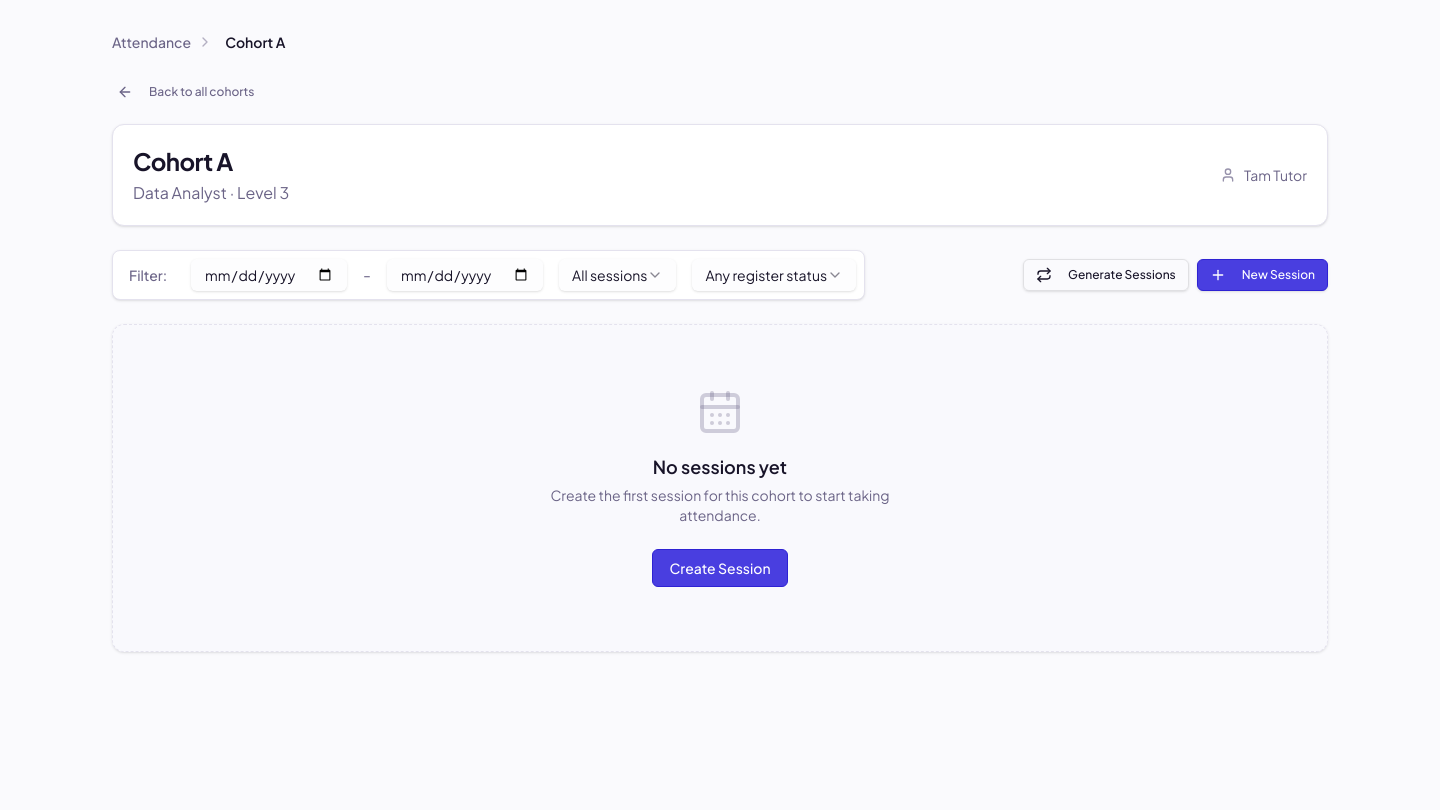
Test: CohortSessionsPage › warns when the chosen date falls outside the cohort's start/end dates
Click the button "New Session" at (1262, 275), box left=1197, top=259, right=1328, bottom=291
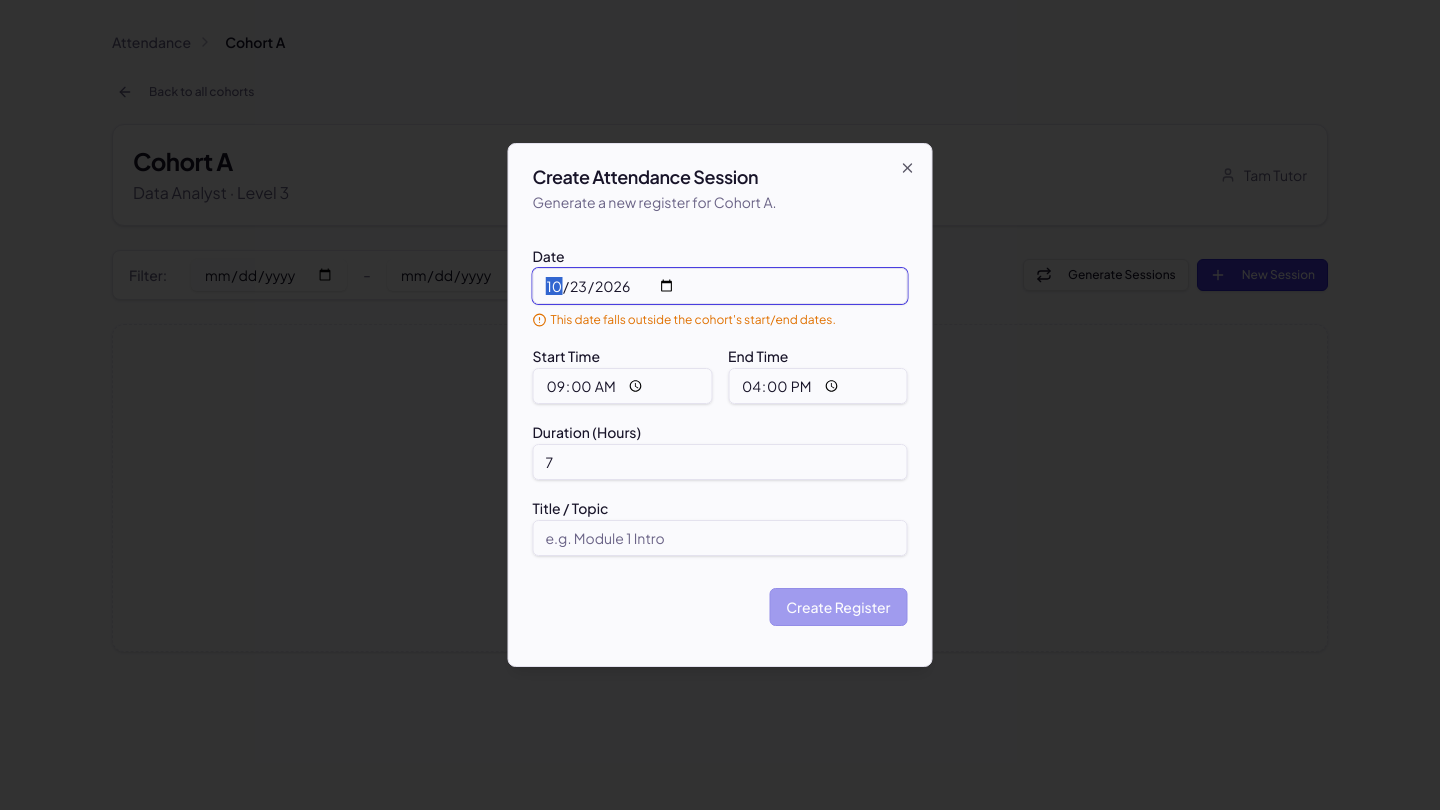
Clear the date field labelled "Date" at (720, 286), box left=532, top=268, right=908, bottom=304
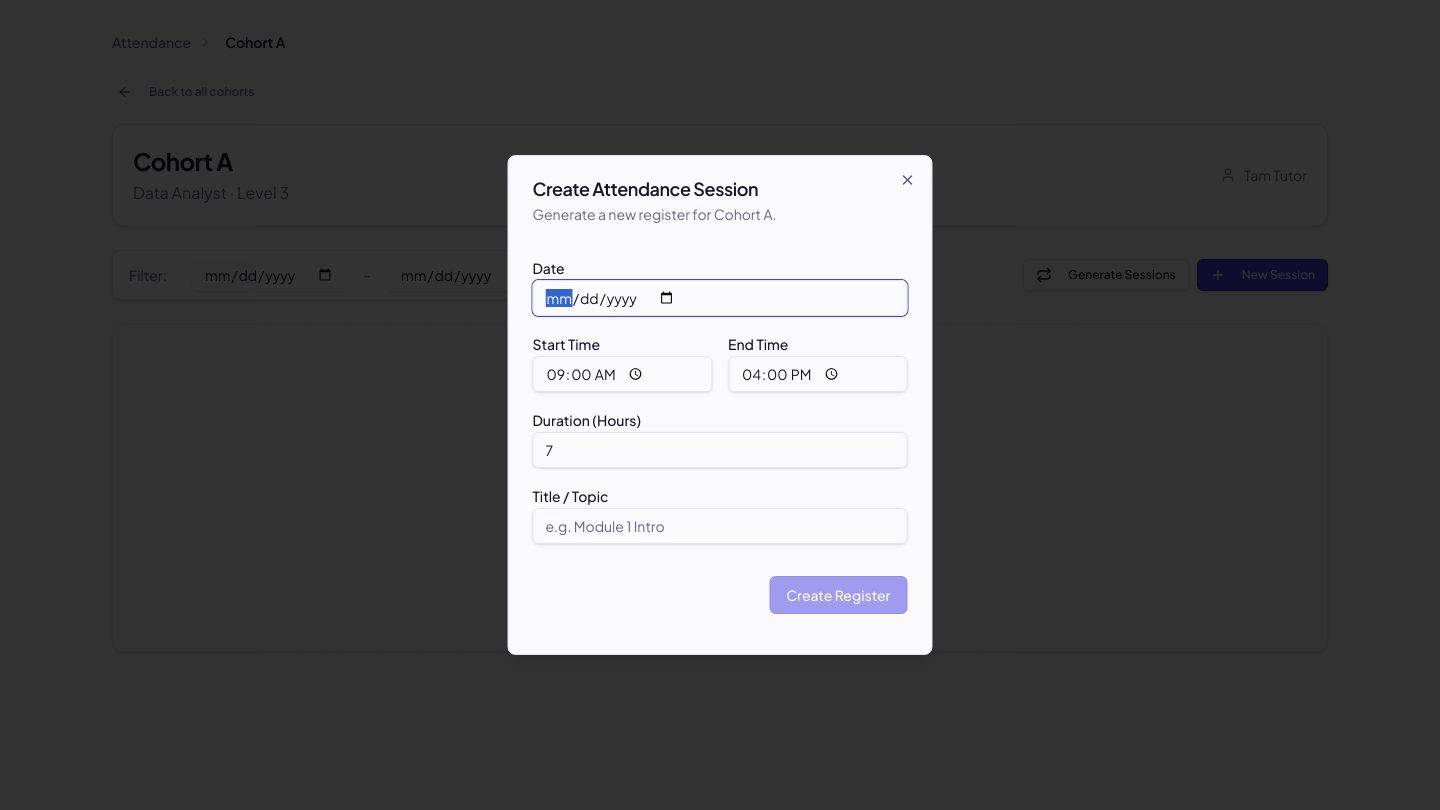
Type "2026-08-15" into the date field labelled "Date" at (720, 298), box left=532, top=280, right=908, bottom=316
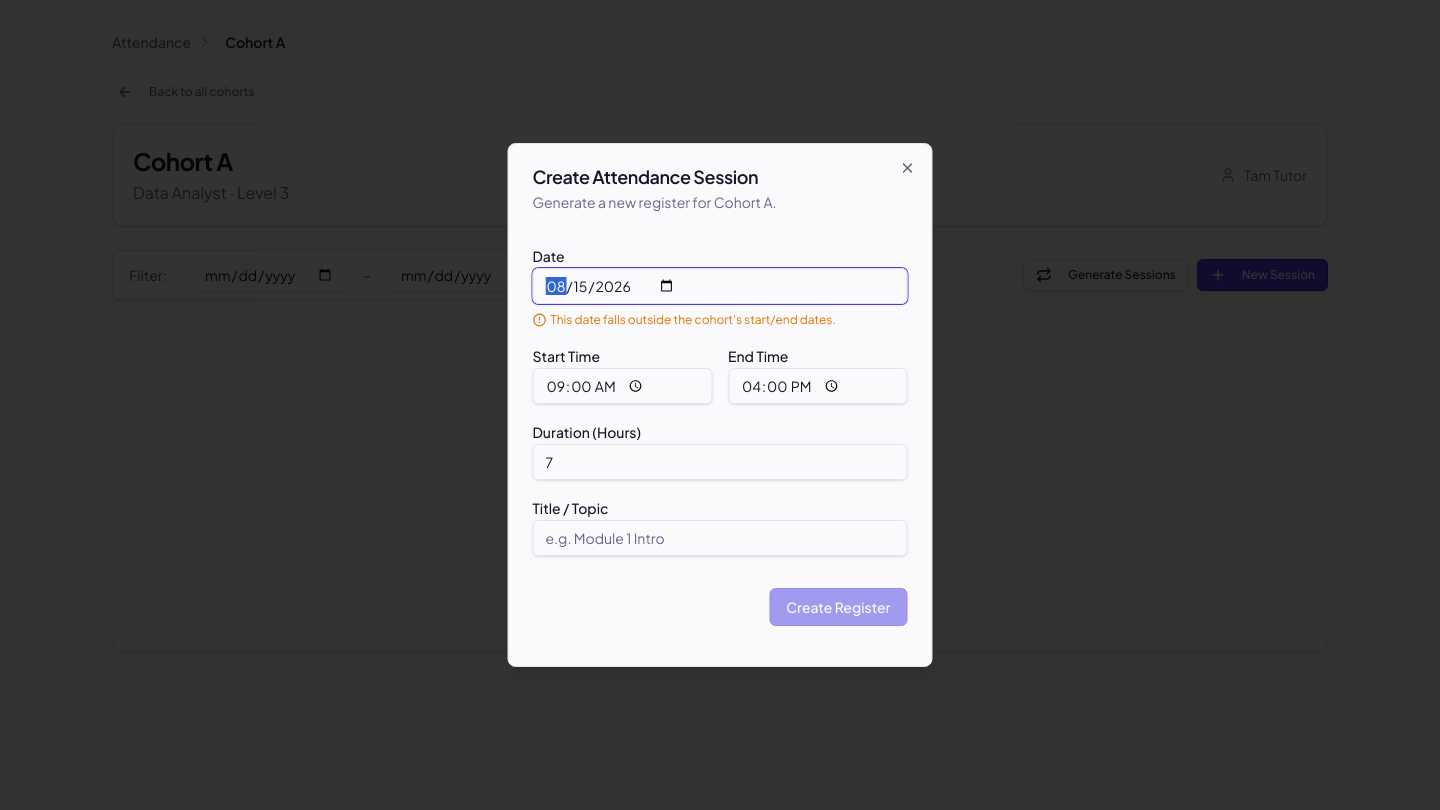
Now the text "This date falls outside the cohort's start/end dates." is shown, box left=532, top=312, right=836, bottom=327
